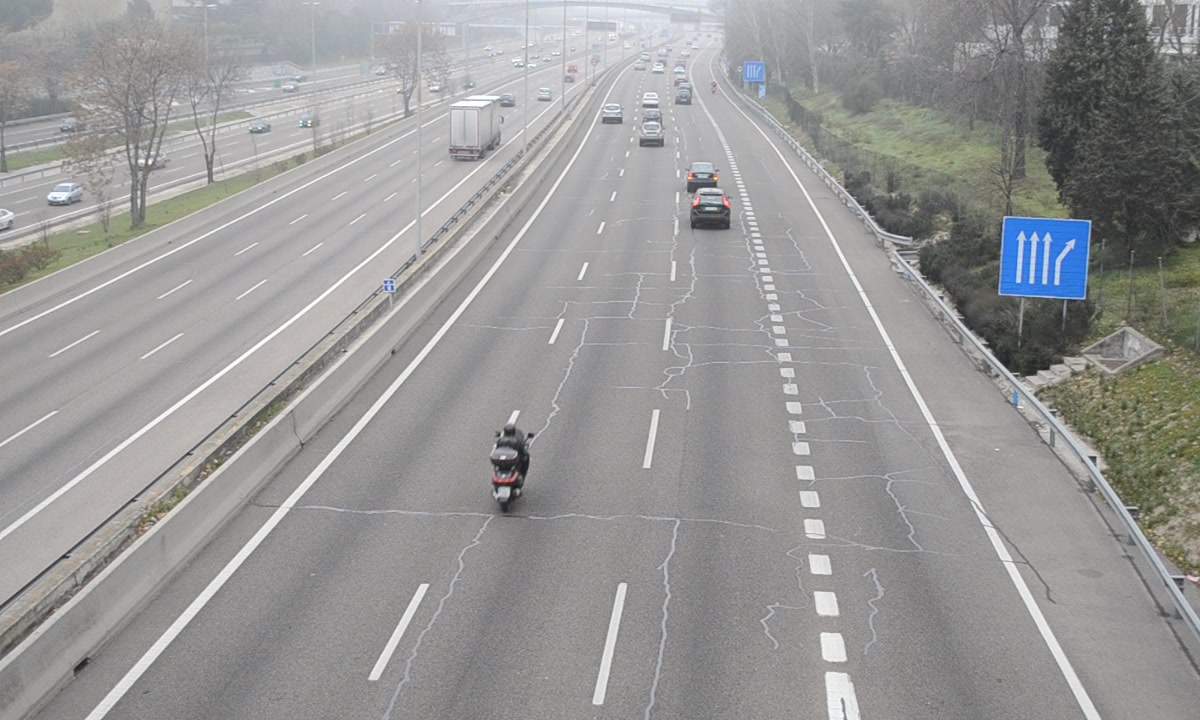car: (689, 188, 732, 227), (685, 162, 718, 191), (637, 120, 665, 147)
motorcycle: (488, 421, 534, 514)
